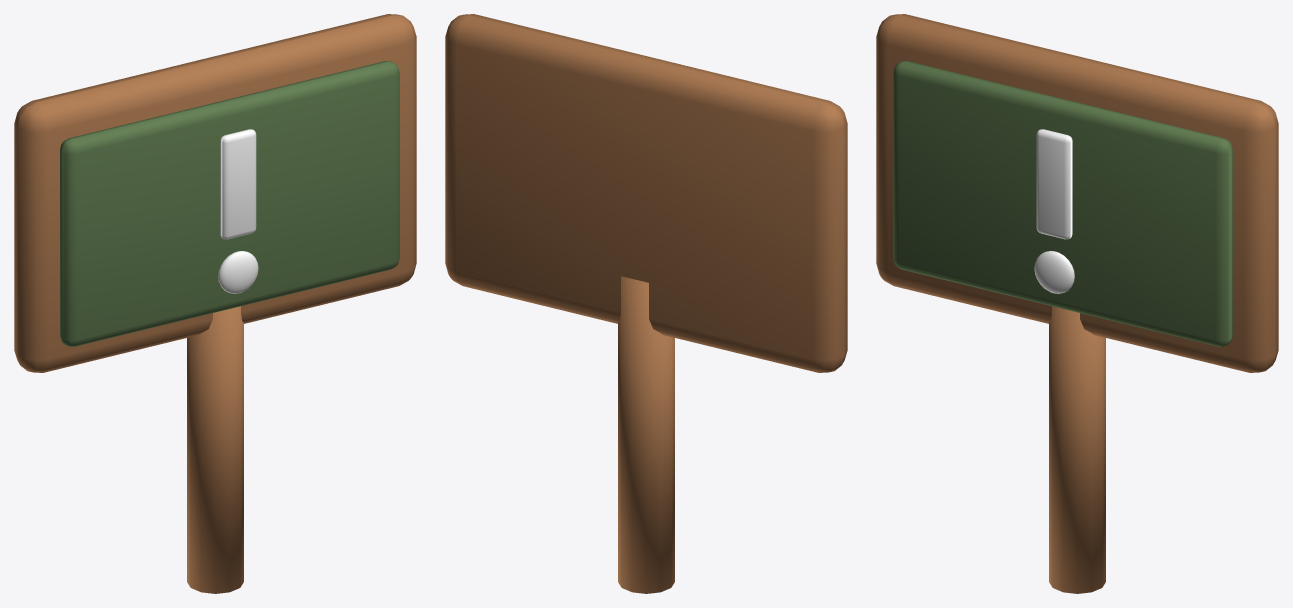
File: Sign.fbx
3 renders of one model, left to right at view 1: azimuth 30°, elevation 25°; view 2: azimuth 150°, elevation 25°; view 3: azimuth 330°, elevation 25°, orthographic.
Visible parts, largest first — view 1: Sign; view 2: Sign; view 3: Sign.
Part boxes in pixels (<box>): Sign: <box>14,14,416,593</box>; Sign: <box>445,14,847,593</box>; Sign: <box>876,14,1278,593</box>.
Bounding box in the file's own units: 0.8 × 1.01 × 0.145.
